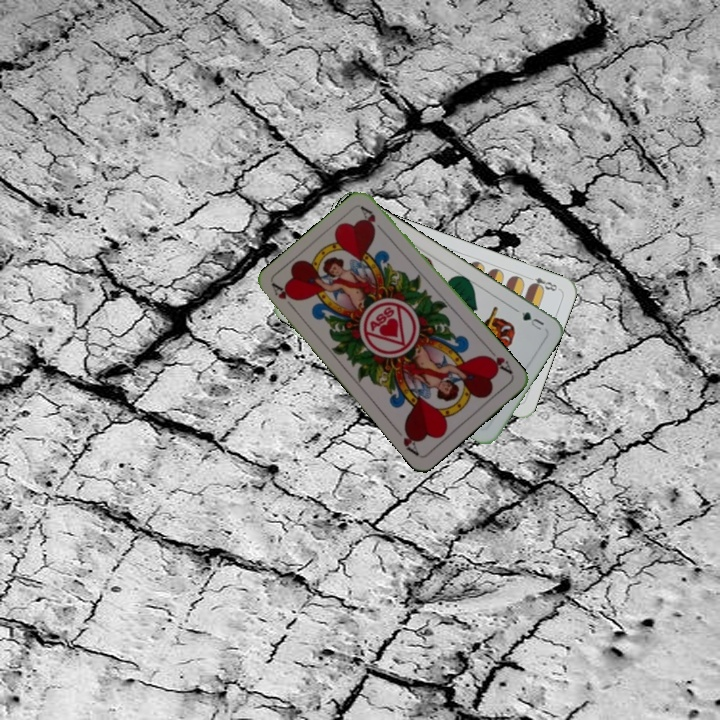E8: (523, 272, 562, 294)
GU: (517, 308, 547, 333)
HA: (480, 345, 515, 377), (268, 280, 300, 314)
